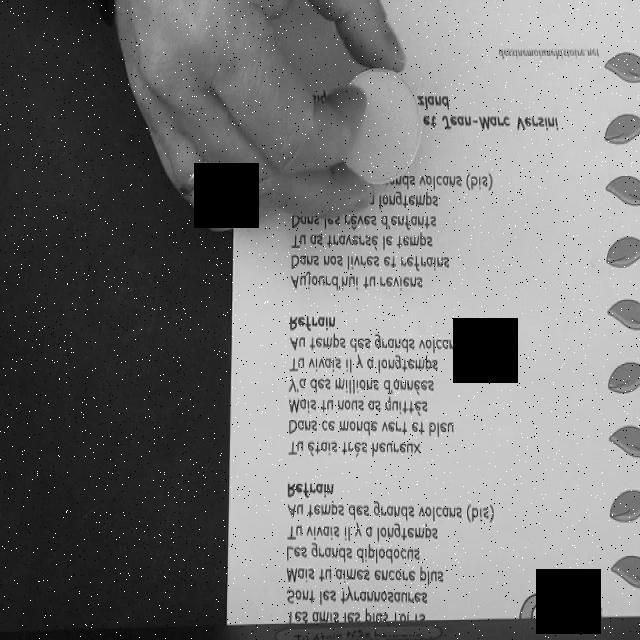round: (332, 65, 422, 186)
